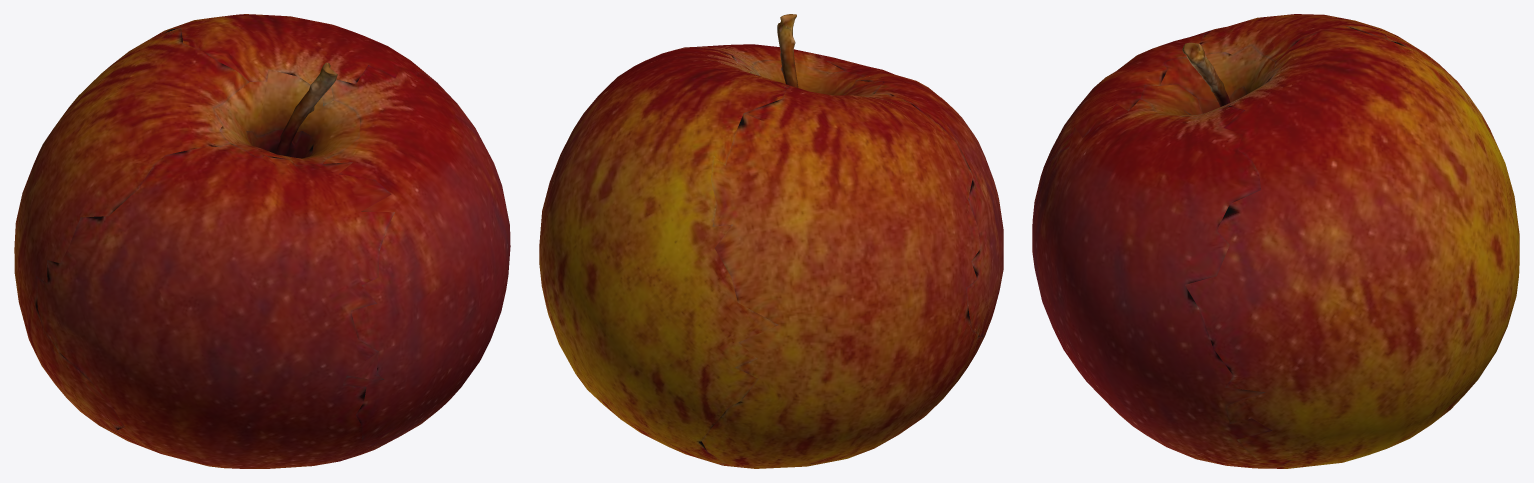
The model's file is food_apple_01.glb.
The picture shows the model from 3 angles, left to right: view 1: azimuth 30°, elevation 25°; view 2: azimuth 150°, elevation 25°; view 3: azimuth 270°, elevation 25°; orthographic projection. The views are drawn at different scales.
Visible parts, largest first — view 1: food_apple_01; view 2: food_apple_01; view 3: food_apple_01.
Part boxes in pixels (x1,y1,x2,y2): food_apple_01: (14, 14, 510, 468); food_apple_01: (539, 14, 1003, 468); food_apple_01: (1032, 14, 1519, 468).
Bounding box in the file's own units: 0.0976 × 0.0853 × 0.0959.
1 material, 1 textured.
